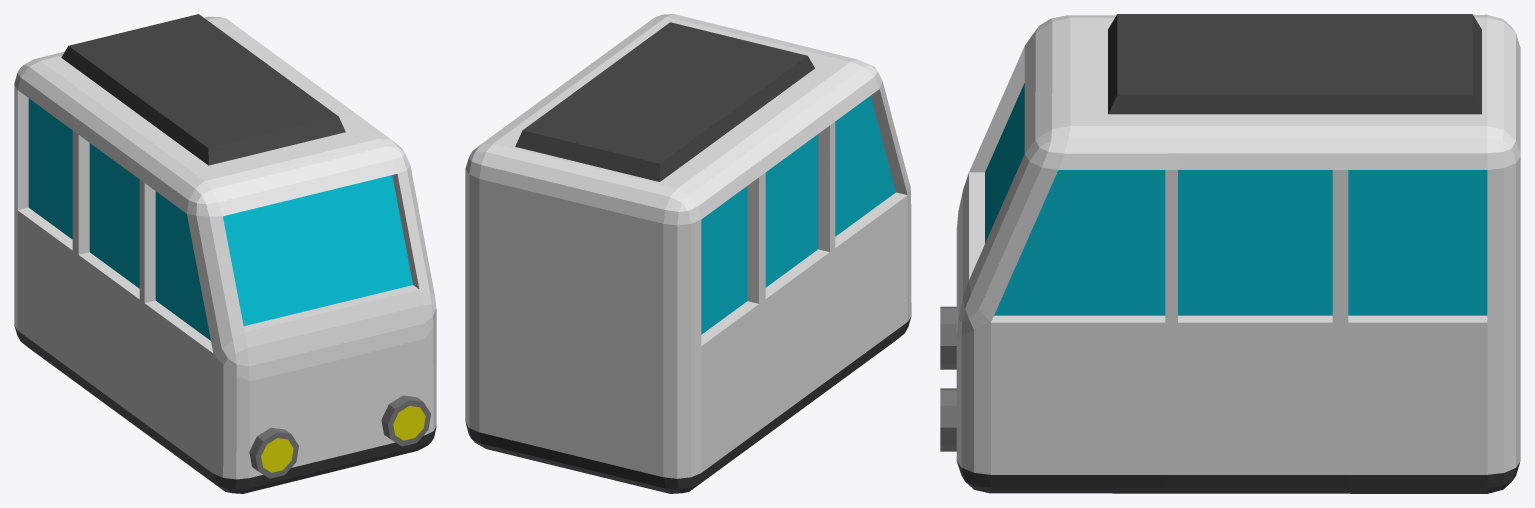
Rendered from Treem.fbx.
3 renders of one model, left to right at view 1: azimuth 30°, elevation 25°; view 2: azimuth 150°, elevation 25°; view 3: azimuth 270°, elevation 25°, orthographic. The views are drawn at different scales.
Parts seen in each view (by area): view 1: trem; view 2: trem; view 3: trem.
Part boxes in pixels (x1,y1,x2,y2): trem: (14,14,436,493); trem: (465,14,911,493); trem: (940,14,1520,493).
Size of the model in its own units: 200 by 262 by 360.
